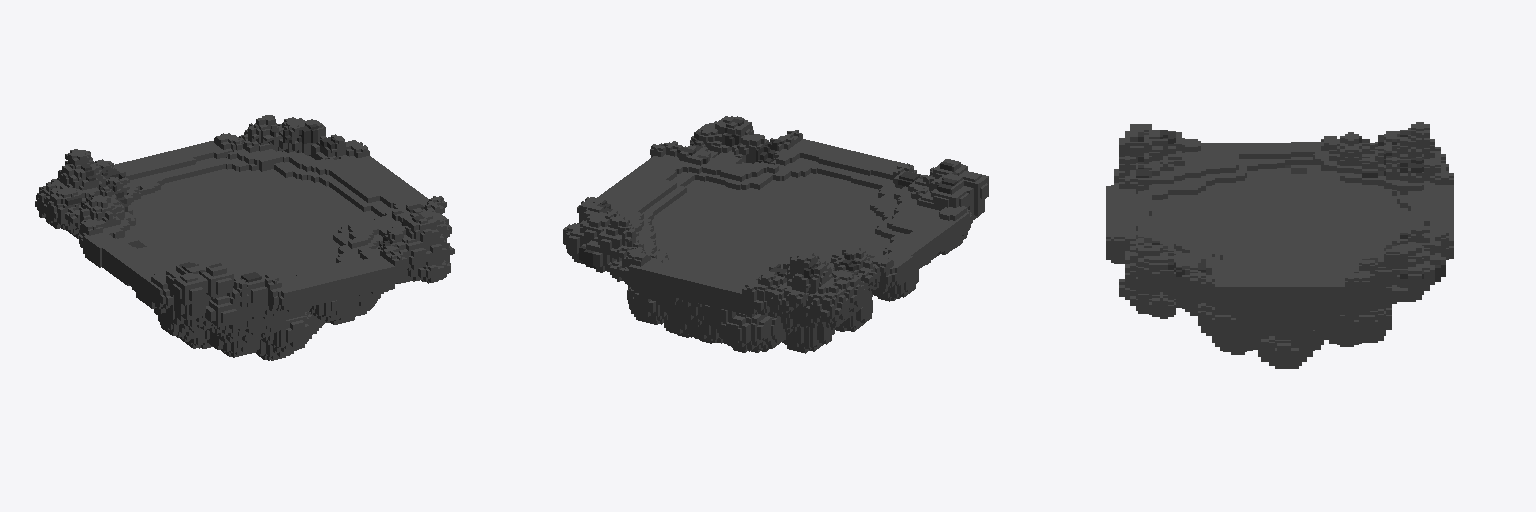
The picture shows the model from 3 angles: view 1: azimuth 30°, elevation 25°; view 2: azimuth 150°, elevation 25°; view 3: azimuth 270°, elevation 25°; orthographic projection.
Parts seen in each view (by area): view 1: Model; view 2: Model; view 3: Model.
Part boxes in pixels (x1,y1,x2,y2): Model: (35, 115, 454, 360); Model: (563, 116, 988, 353); Model: (1106, 122, 1453, 368).
Bounding box in the file's own units: 32 × 15.75 × 32.
1 materials, 1 textured.